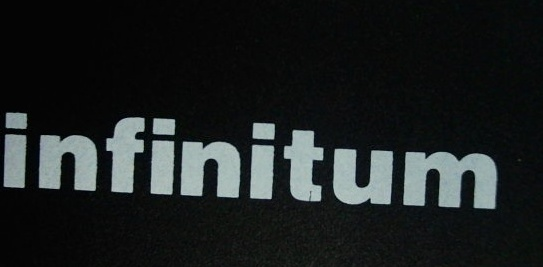BK_infinitum: (2, 110, 498, 209)
